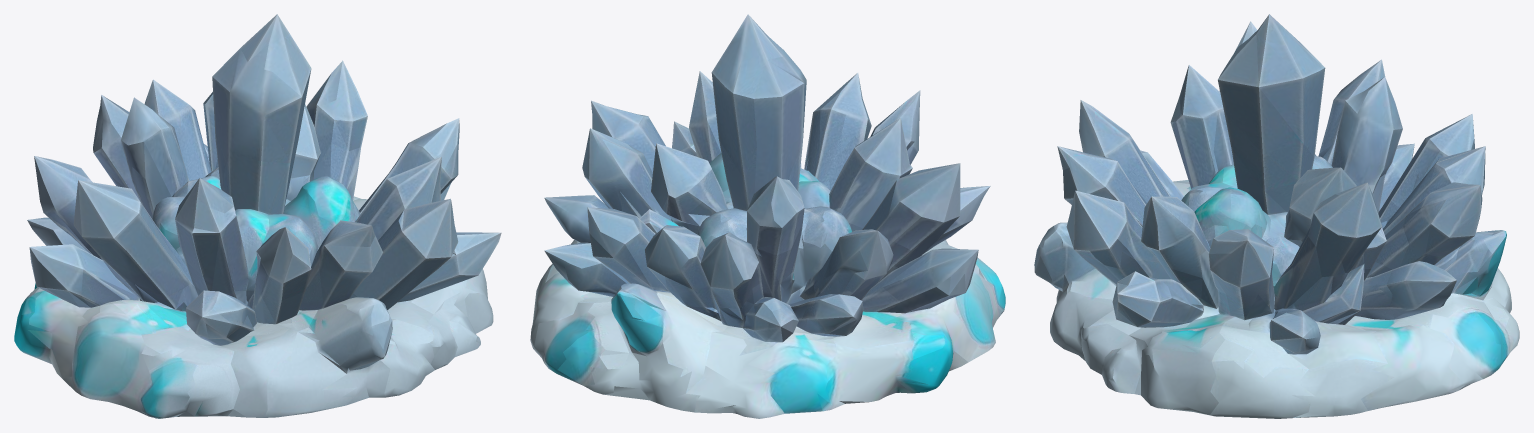
Rendered from ice-crystal.glb.
The picture shows the model from 3 angles, left to right: view 1: azimuth 30°, elevation 25°; view 2: azimuth 150°, elevation 25°; view 3: azimuth 270°, elevation 25°; orthographic projection. The views are drawn at different scales.
Size of the model in its own units: 1.9 by 1.29 by 1.8.
1 material, 1 textured.
